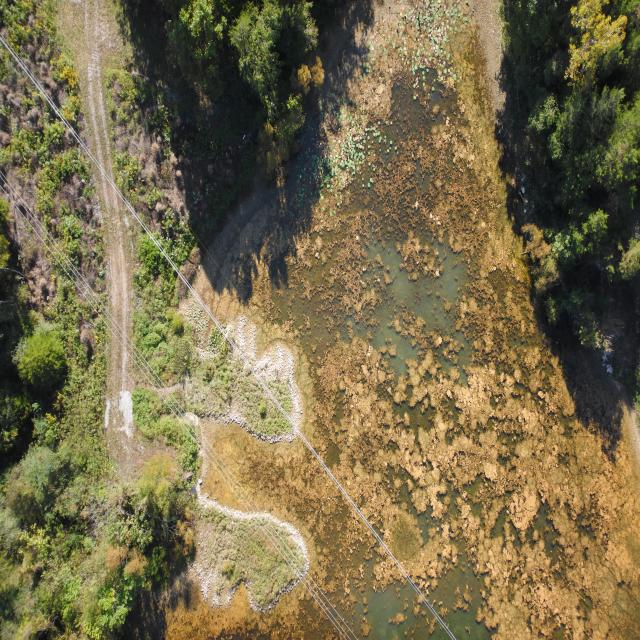Area of Interest: (523, 4, 637, 282), (163, 14, 335, 137)
